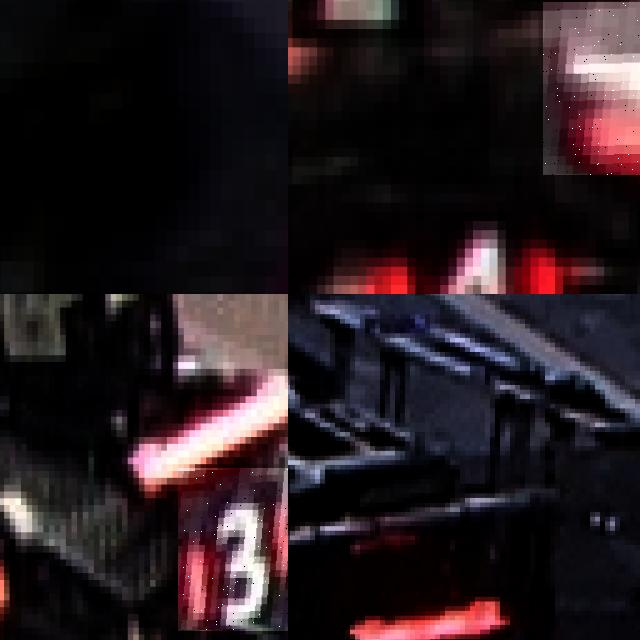R3: (178, 467, 288, 631)
R4: (354, 207, 575, 294), (543, 1, 640, 175)
